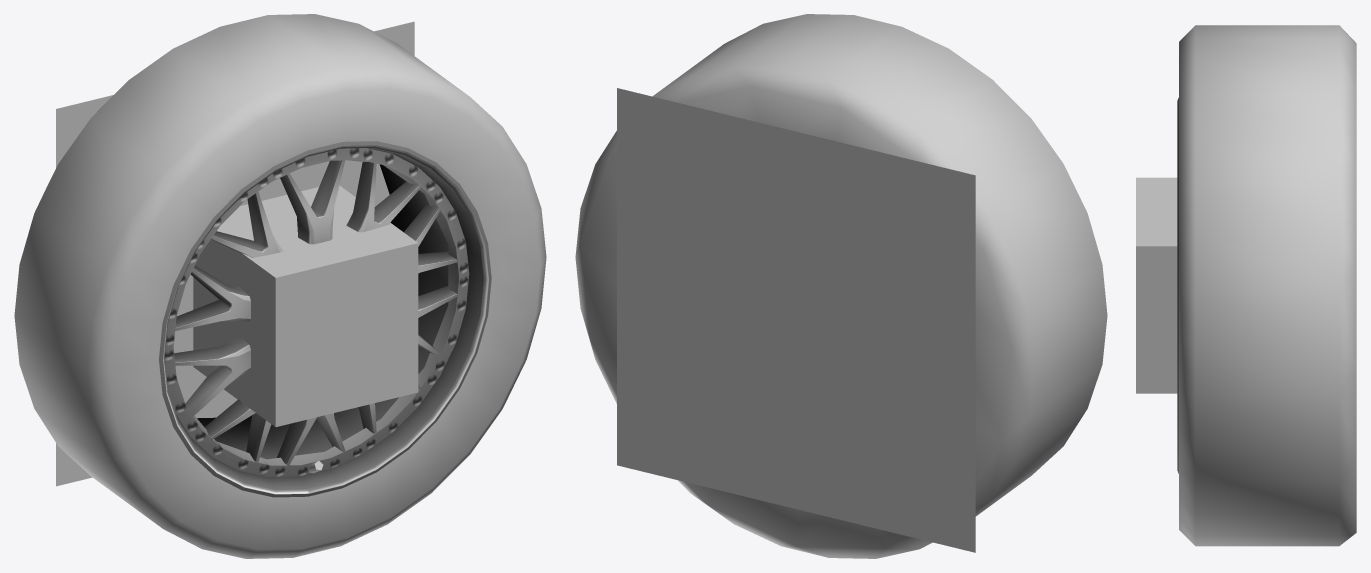
3 views of the same model, side by side, from view 1: azimuth 30°, elevation 25°; view 2: azimuth 150°, elevation 25°; view 3: azimuth 270°, elevation 25° (orthographic).
Visible parts, largest first — view 1: LOWENHART_STYLE01_17_25_A, _FRONT_BRAKE_1; view 2: LOWENHART_STYLE01_17_25_A; view 3: LOWENHART_STYLE01_17_25_A, _FRONT_BRAKE_1.
Part boxes in pixels (x1,y1,x2,y2): LOWENHART_STYLE01_17_25_A: (14,14,546,558); _FRONT_BRAKE_1: (193,185,418,427); LOWENHART_STYLE01_17_25_A: (575,14,1107,558); LOWENHART_STYLE01_17_25_A: (1177,25,1356,546); _FRONT_BRAKE_1: (1136,177,1177,393).
Bounding box in the file's own units: 0.6434 × 0.2715 × 0.6399.
